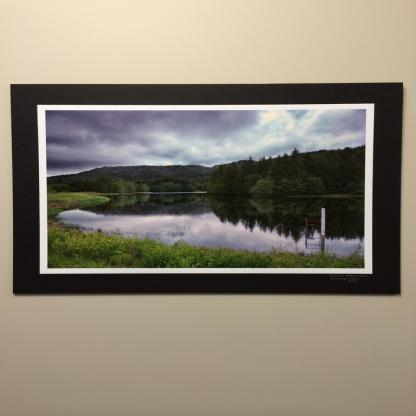Picture-frame: (13, 83, 403, 295)
